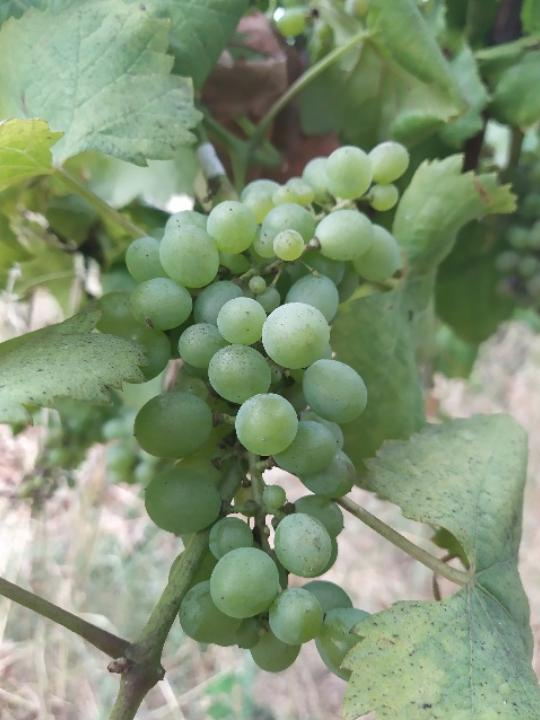grape: (96, 138, 413, 676)
